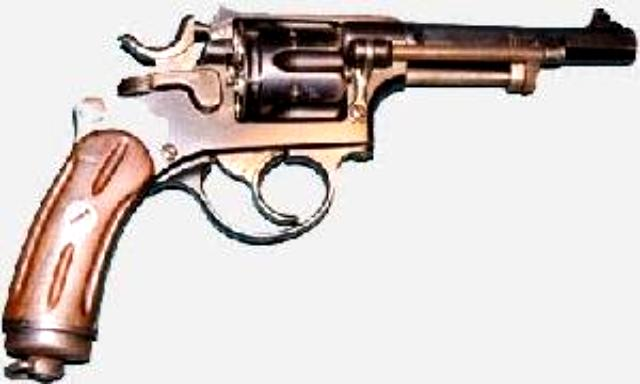pistol: (2, 6, 632, 376)
